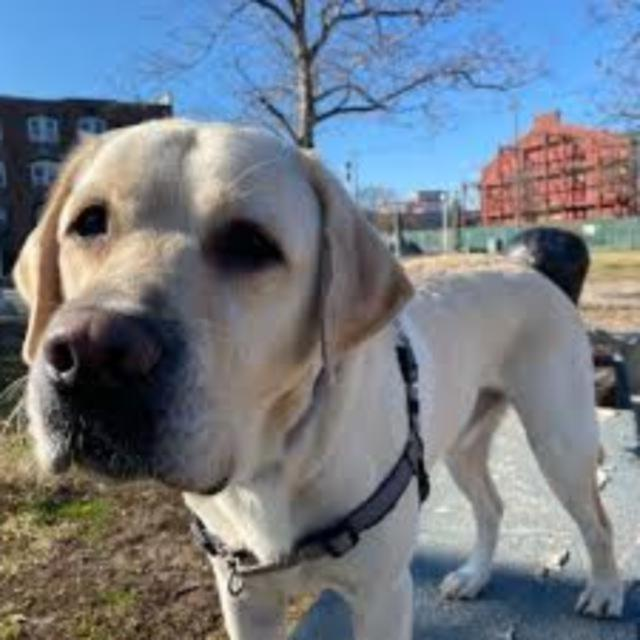dog: (1, 80, 606, 640)
